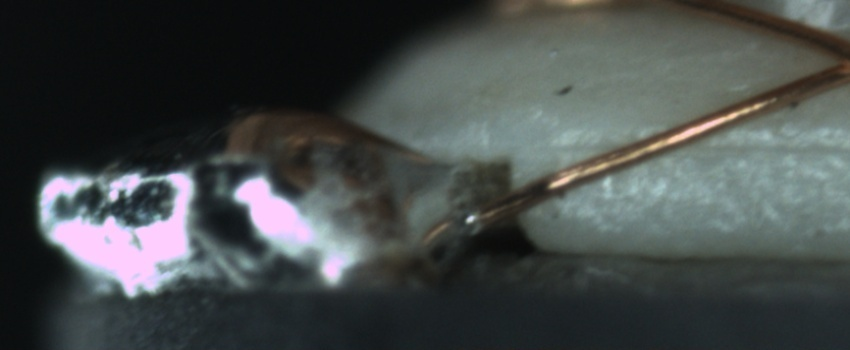CL: (803, 28, 850, 91)
DL: (560, 115, 850, 177)
